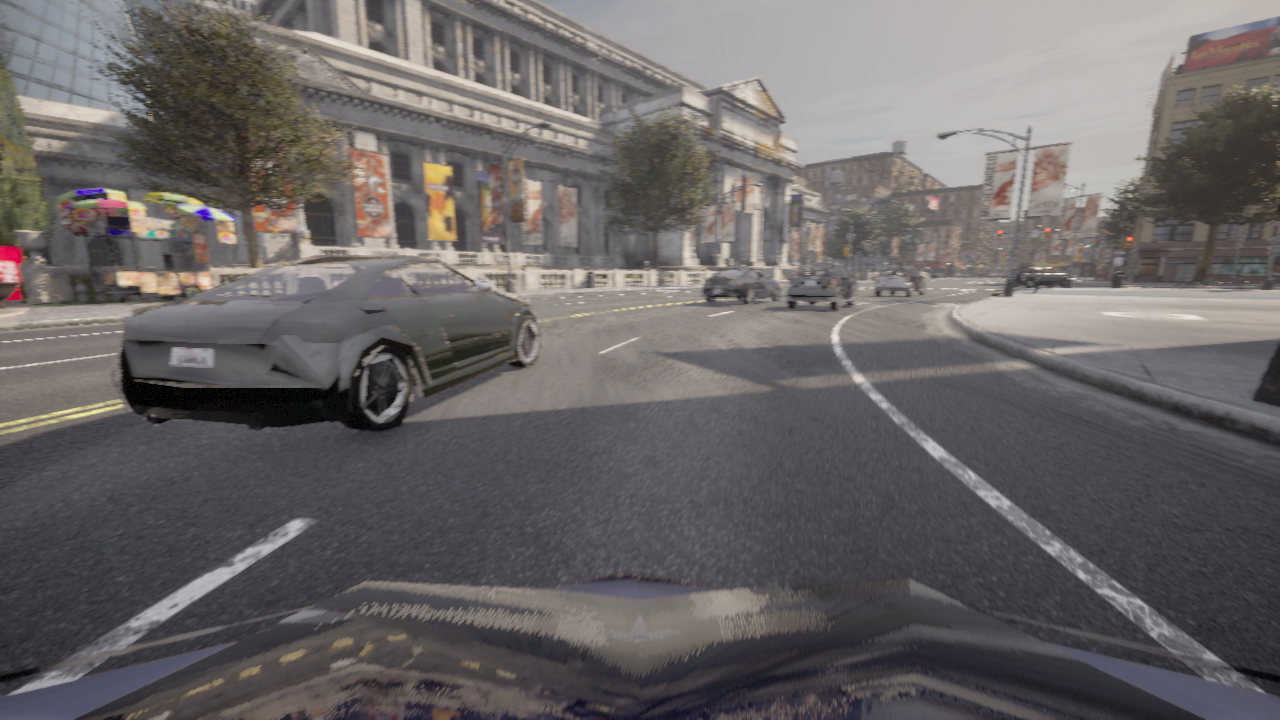cyclist: (0, 569, 1279, 719), (111, 256, 541, 432), (786, 263, 857, 310), (703, 267, 783, 305), (874, 266, 925, 297), (1007, 267, 1075, 288), (988, 273, 1002, 278), (853, 279, 857, 286), (1003, 274, 1008, 278)
